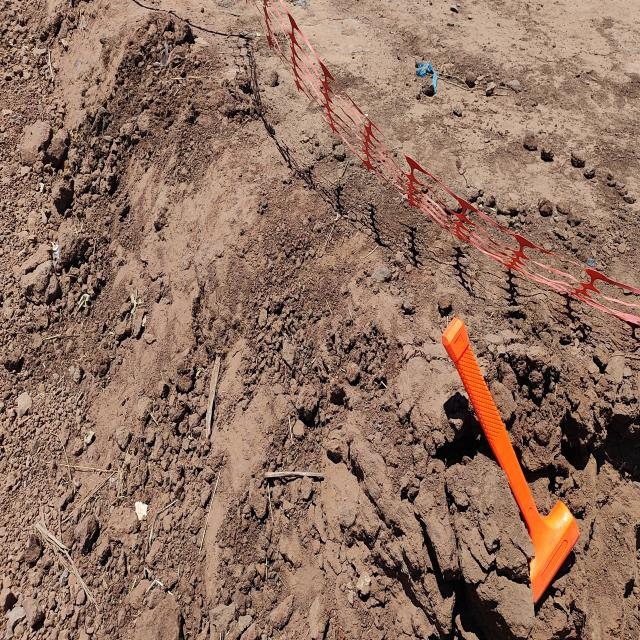Orange_hammer: (441, 315, 580, 605)
